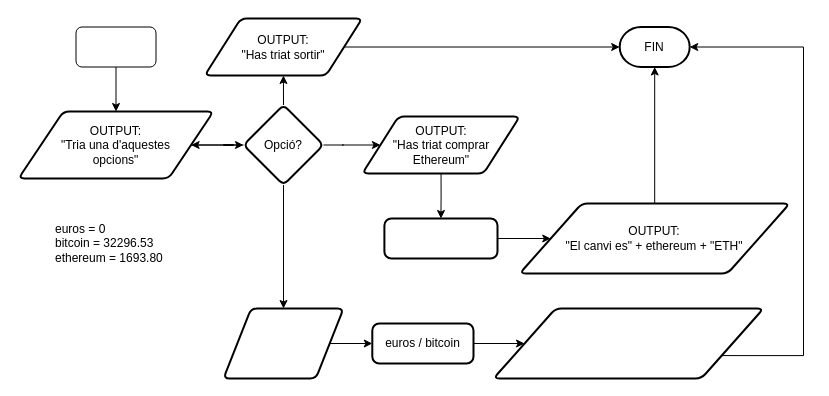
This 829x396 diagram has some shape labels left out. Each missing label, with the centre of its shape:
euros / ethereum: [440,238]
INICI: [115,46]
OUTPUT: "El canvi es" + bitcoin +"BTC": [628,343]
OUTPUT: "Has comprar Bitcoins": [283,343]
